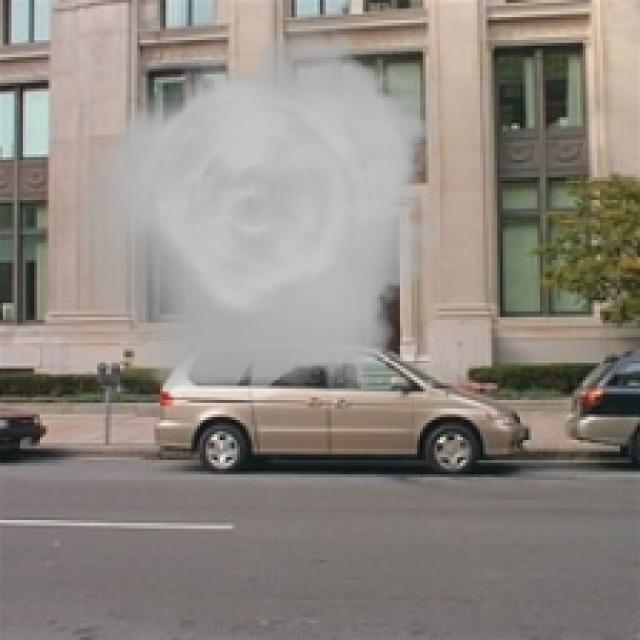Smoke: (77, 11, 440, 412)
